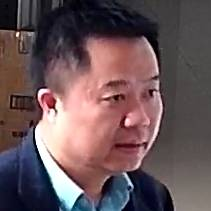cb: (27, 21, 178, 172)
